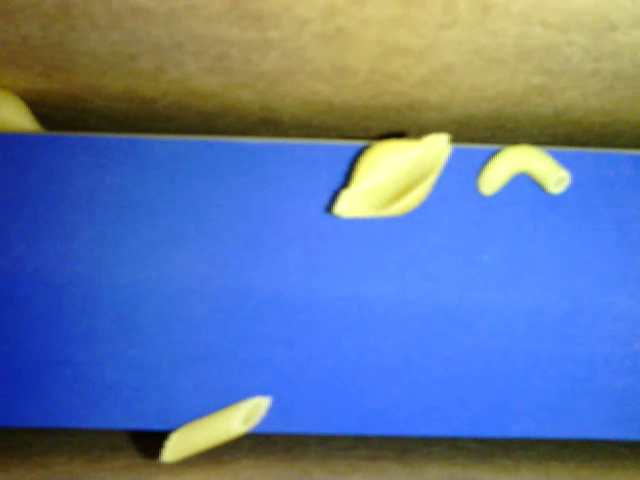elbow: (475, 135, 571, 200)
penne: (159, 392, 274, 465)
shell: (326, 122, 454, 223), (1, 85, 40, 133)
